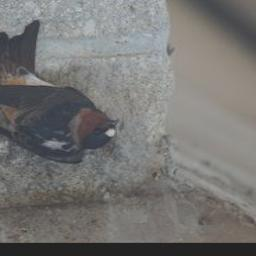Swallow: (0, 21, 122, 168)
